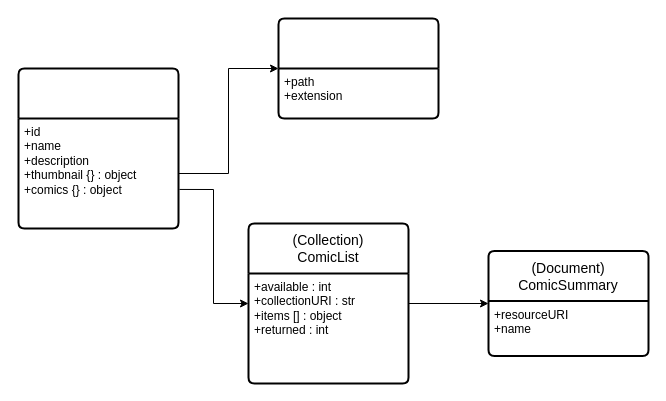
The diagram is 666 pixels wide and 401 high, and some of its shapes have lost their labels. Each missing label, with the box of its shape:
(Collection) Character: (17, 67, 179, 229)
(Document) Thumbnail: (277, 17, 439, 119)
